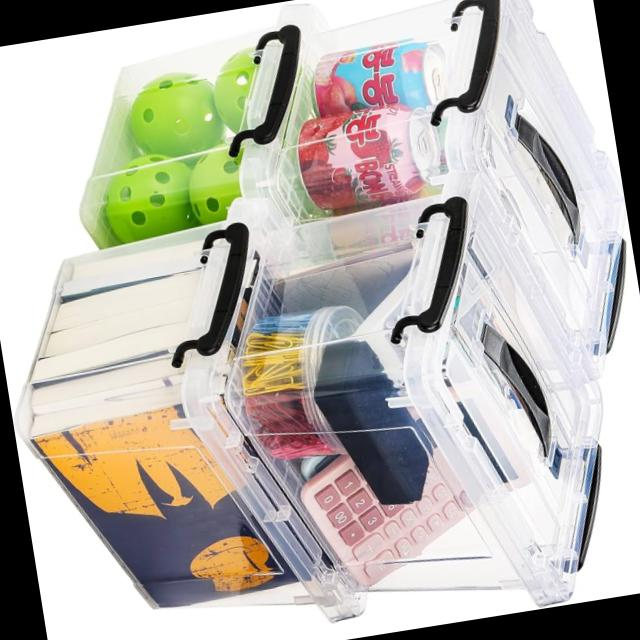plastic_box: (16, 0, 640, 640), (211, 161, 640, 633)
